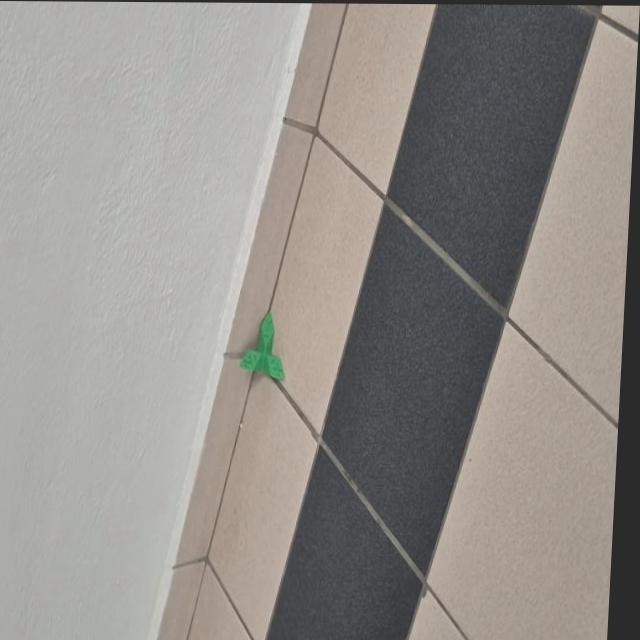eje: (237, 309, 289, 382)
